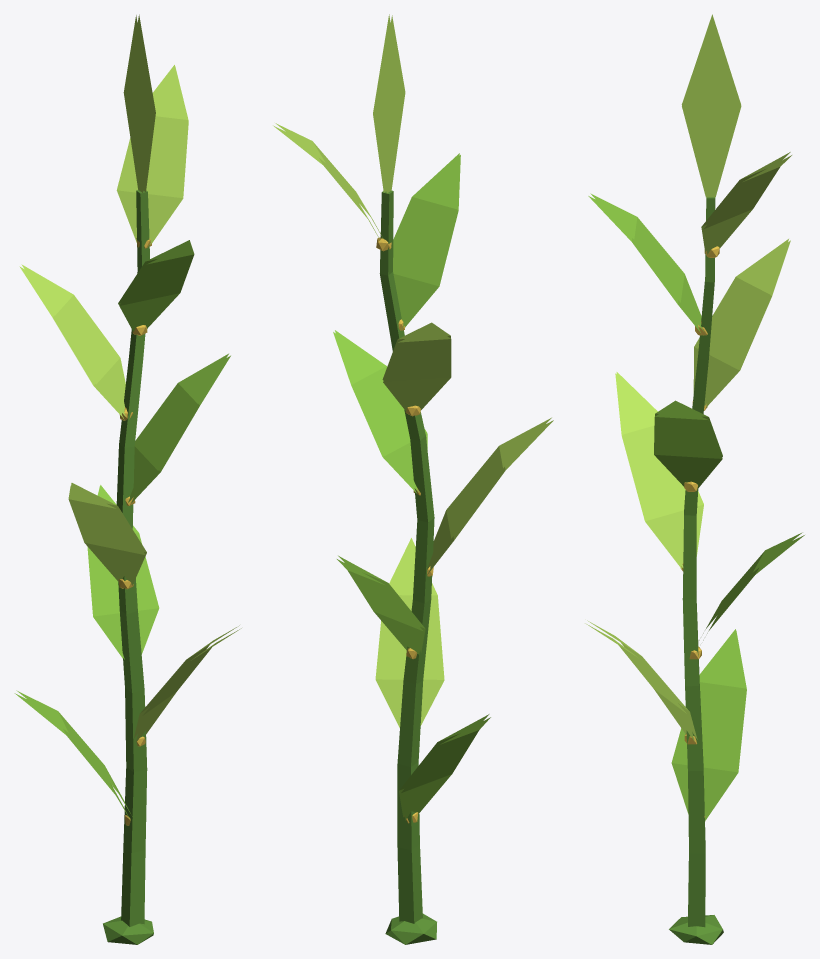
File: kelp_tall.fbx
The picture shows the model from 3 angles, left to right: view 1: azimuth 30°, elevation 25°; view 2: azimuth 150°, elevation 25°; view 3: azimuth 270°, elevation 25°; orthographic projection.
Parts seen in each view (by area): view 1: kelp_tall; view 2: kelp_tall; view 3: kelp_tall.
Part boxes in pixels (<box>): kelp_tall: <box>14,14,241,944</box>; kelp_tall: <box>273,14,553,944</box>; kelp_tall: <box>585,14,804,944</box>.
Bounding box in the file's own units: 909 × 4146 × 896.
1 material, 1 textured.
